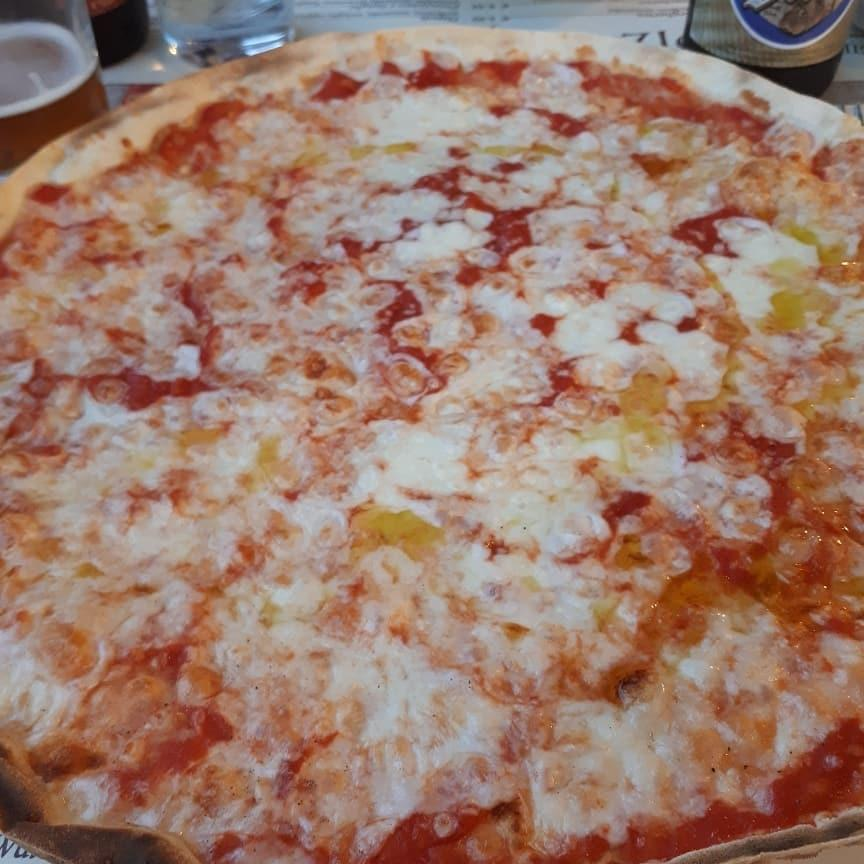Cheese: (226, 648, 687, 814), (440, 332, 691, 580), (86, 426, 319, 606), (132, 248, 378, 390), (688, 192, 864, 372), (290, 104, 512, 242), (548, 134, 672, 294)
Pizza: (2, 34, 864, 864)
